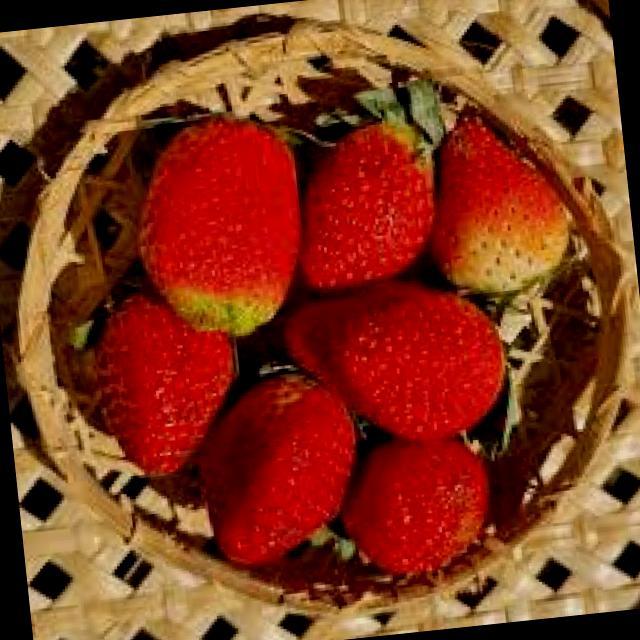strawberry: (175, 332, 376, 603), (281, 275, 536, 456), (126, 106, 310, 342), (76, 286, 262, 484), (422, 79, 564, 307), (294, 98, 464, 287)
